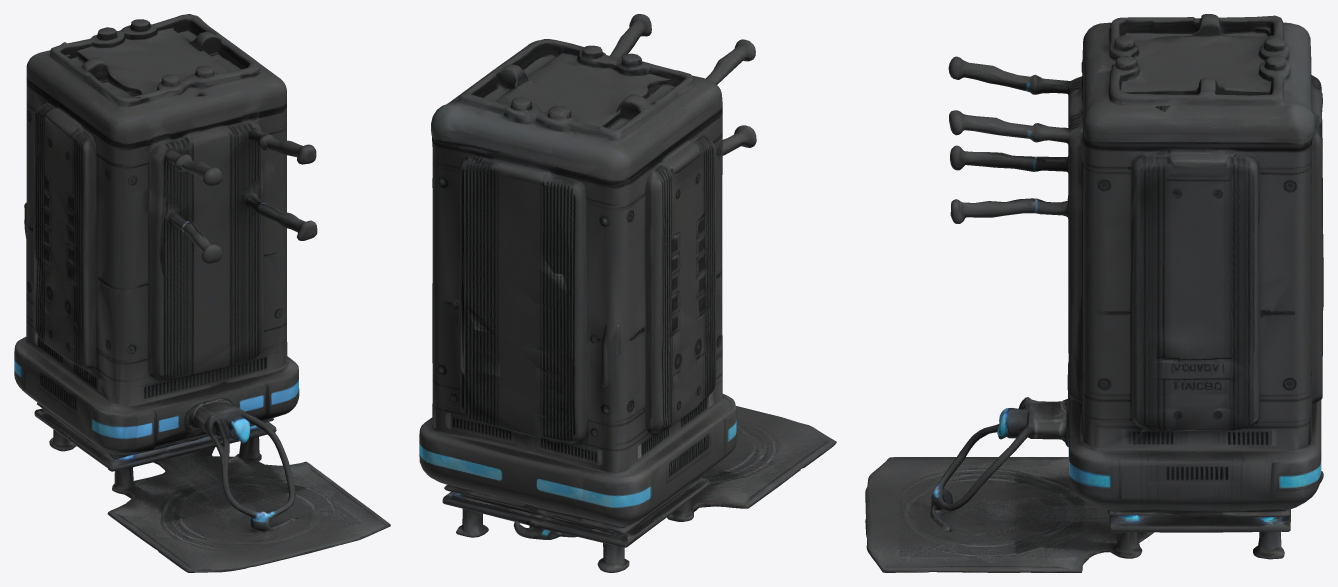
File: part_body.glb
The picture shows the model from 3 angles, left to right: view 1: azimuth 30°, elevation 25°; view 2: azimuth 150°, elevation 25°; view 3: azimuth 270°, elevation 25°; orthographic projection. The views are drawn at different scales.
Bounding box in the file's own units: 1.05 × 2 × 1.77.
Materials: 1 (1 with a texture image).
